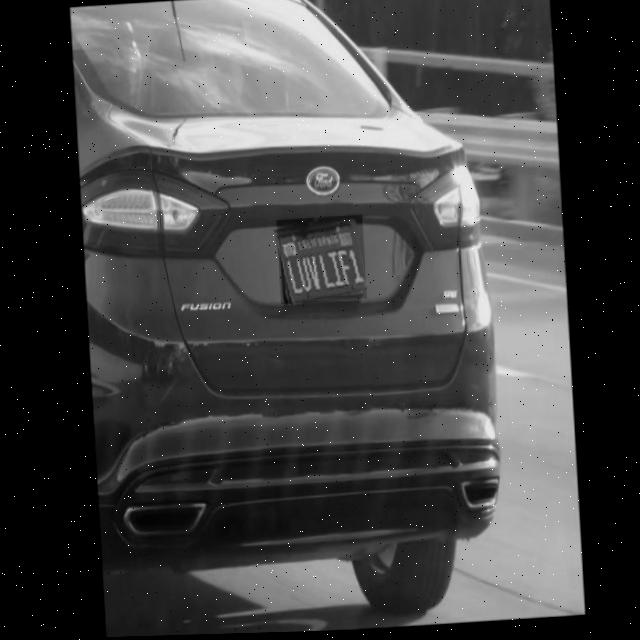LicensePlate: (274, 217, 365, 305)
